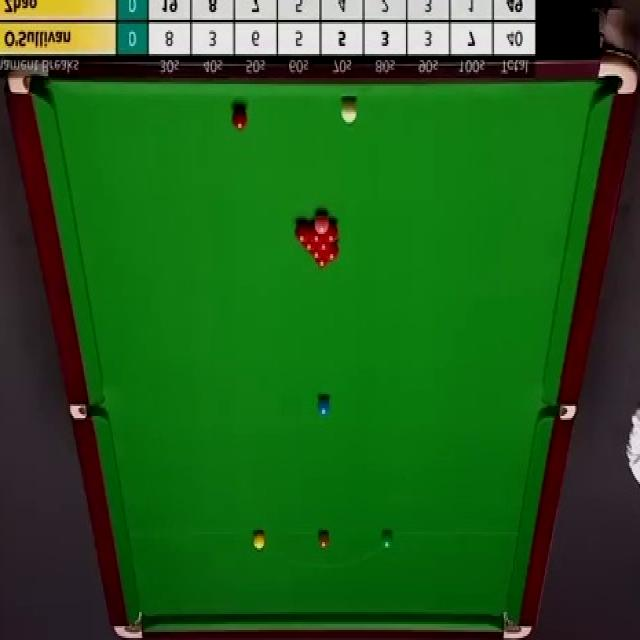blue-ball: (318, 396, 330, 418)
brown-ball: (318, 530, 331, 550)
green-ball: (381, 529, 395, 550)
pink-ball: (314, 209, 329, 236)
red-ball: (323, 239, 339, 263), (294, 221, 311, 243), (323, 220, 339, 243), (232, 106, 247, 130), (311, 223, 325, 244), (315, 240, 335, 252), (301, 237, 316, 252), (310, 247, 324, 261), (316, 257, 329, 270)
white-ball: (339, 100, 358, 126)
yellow-ball: (251, 530, 266, 551)
